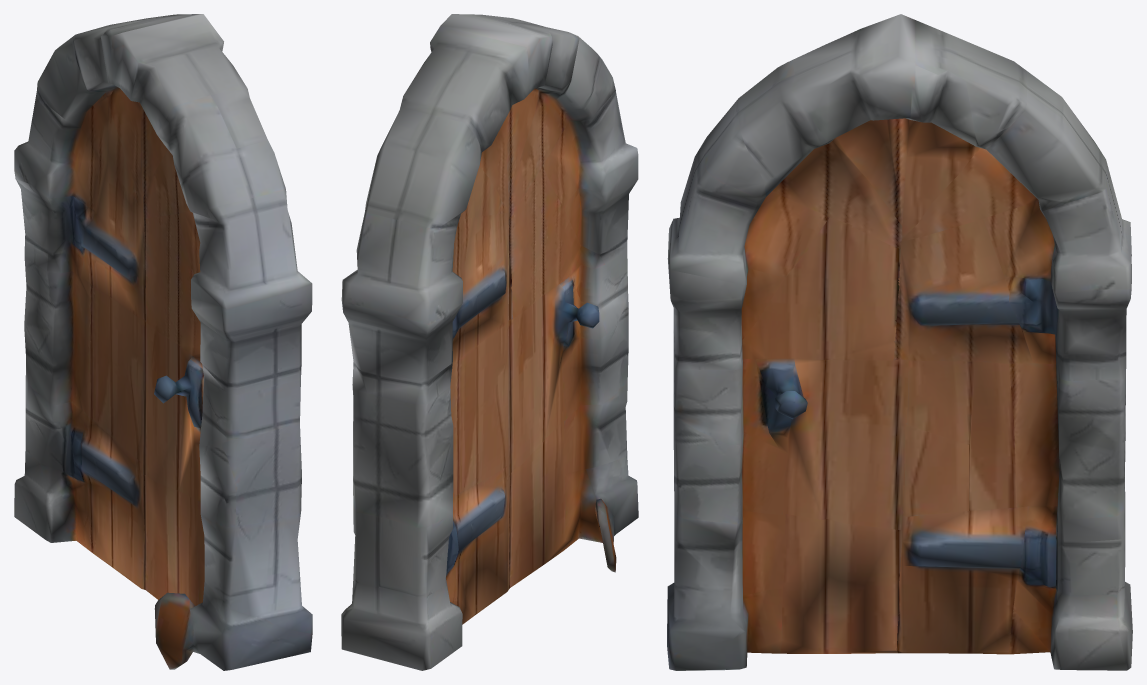
File: wooden_door.glb
3 renders of one model, left to right at view 1: azimuth 30°, elevation 25°; view 2: azimuth 150°, elevation 25°; view 3: azimuth 270°, elevation 25°, orthographic. The views are drawn at different scales.
Visible parts, largest first — view 1: tripo_node_26031837-a48c-4e4e-bb34-7b3db469e880; view 2: tripo_node_26031837-a48c-4e4e-bb34-7b3db469e880; view 3: tripo_node_26031837-a48c-4e4e-bb34-7b3db469e880.
Boxes of the visible parts, bbox=[...] form: tripo_node_26031837-a48c-4e4e-bb34-7b3db469e880: bbox=[14, 14, 312, 670]; tripo_node_26031837-a48c-4e4e-bb34-7b3db469e880: bbox=[341, 14, 638, 670]; tripo_node_26031837-a48c-4e4e-bb34-7b3db469e880: bbox=[667, 14, 1132, 670].
Size of the model in its own units: 0.2032 by 0.9466 by 0.628.
1 material, 1 textured.
